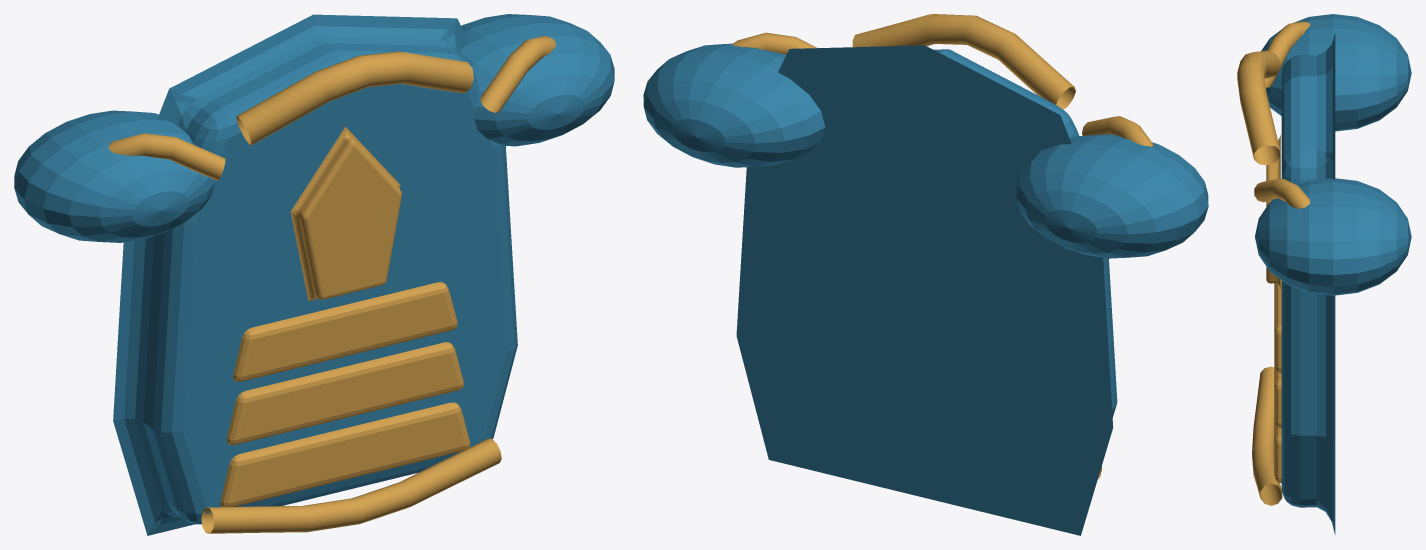
The model's file is armor_horizon.glb.
3 renders of one model, left to right at view 1: azimuth 30°, elevation 25°; view 2: azimuth 150°, elevation 25°; view 3: azimuth 270°, elevation 25°, orthographic. The views are drawn at different scales.
Visible parts, largest first — view 1: Breastplate, ShoulderGuard, ShoulderGuard.001, ArrowSigil, AbPlate, AbPlate.001, AbPlate.002, WaistTrim, Collar, ShoulderTrim, ShoulderTrim.001; view 2: Breastplate, ShoulderGuard, ShoulderGuard.001, Collar, ShoulderTrim, ShoulderTrim.001; view 3: Breastplate, ShoulderGuard.001, ShoulderGuard, Collar, WaistTrim, ShoulderTrim.001, ShoulderTrim, AbPlate.002, ArrowSigil, AbPlate, AbPlate.001.
Boxes of the visible parts, left/top/right/bottom form: Breastplate: left=113, top=14, right=517, bottom=535; ShoulderGuard: left=14, top=110, right=215, bottom=242; ShoulderGuard.001: left=460, top=14, right=614, bottom=146; ArrowSigil: left=290, top=127, right=401, bottom=300; AbPlate: left=220, top=402, right=470, bottom=506; AbPlate.001: left=227, top=342, right=463, bottom=444; AbPlate.002: left=233, top=282, right=457, bottom=381; WaistTrim: left=201, top=438, right=501, bottom=533; Collar: left=236, top=51, right=473, bottom=145; ShoulderTrim: left=108, top=133, right=225, bottom=180; ShoulderTrim.001: left=480, top=35, right=556, bottom=112; Breastplate: left=736, top=45, right=1117, bottom=535; ShoulderGuard: left=1016, top=134, right=1208, bottom=258; ShoulderGuard.001: left=643, top=43, right=825, bottom=167; Collar: left=852, top=14, right=1075, bottom=109; ShoulderTrim: left=1082, top=116, right=1153, bottom=146; ShoulderTrim.001: left=732, top=32, right=817, bottom=54; Breastplate: left=1281, top=33, right=1335, bottom=534; ShoulderGuard.001: left=1255, top=178, right=1411, bottom=295; ShoulderGuard: left=1261, top=14, right=1411, bottom=131; Collar: left=1237, top=50, right=1280, bottom=165; WaistTrim: left=1252, top=366, right=1282, bottom=505; ShoulderTrim.001: left=1254, top=178, right=1310, bottom=208; ShoulderTrim: left=1265, top=21, right=1310, bottom=87; AbPlate.002: left=1274, top=280, right=1281, bottom=373; ArrowSigil: left=1266, top=135, right=1280, bottom=288; AbPlate: left=1274, top=420, right=1281, bottom=483; AbPlate.001: left=1274, top=365, right=1281, bottom=428.
Bounding box in the file's own units: 1.38 × 1.09 × 0.4226.
